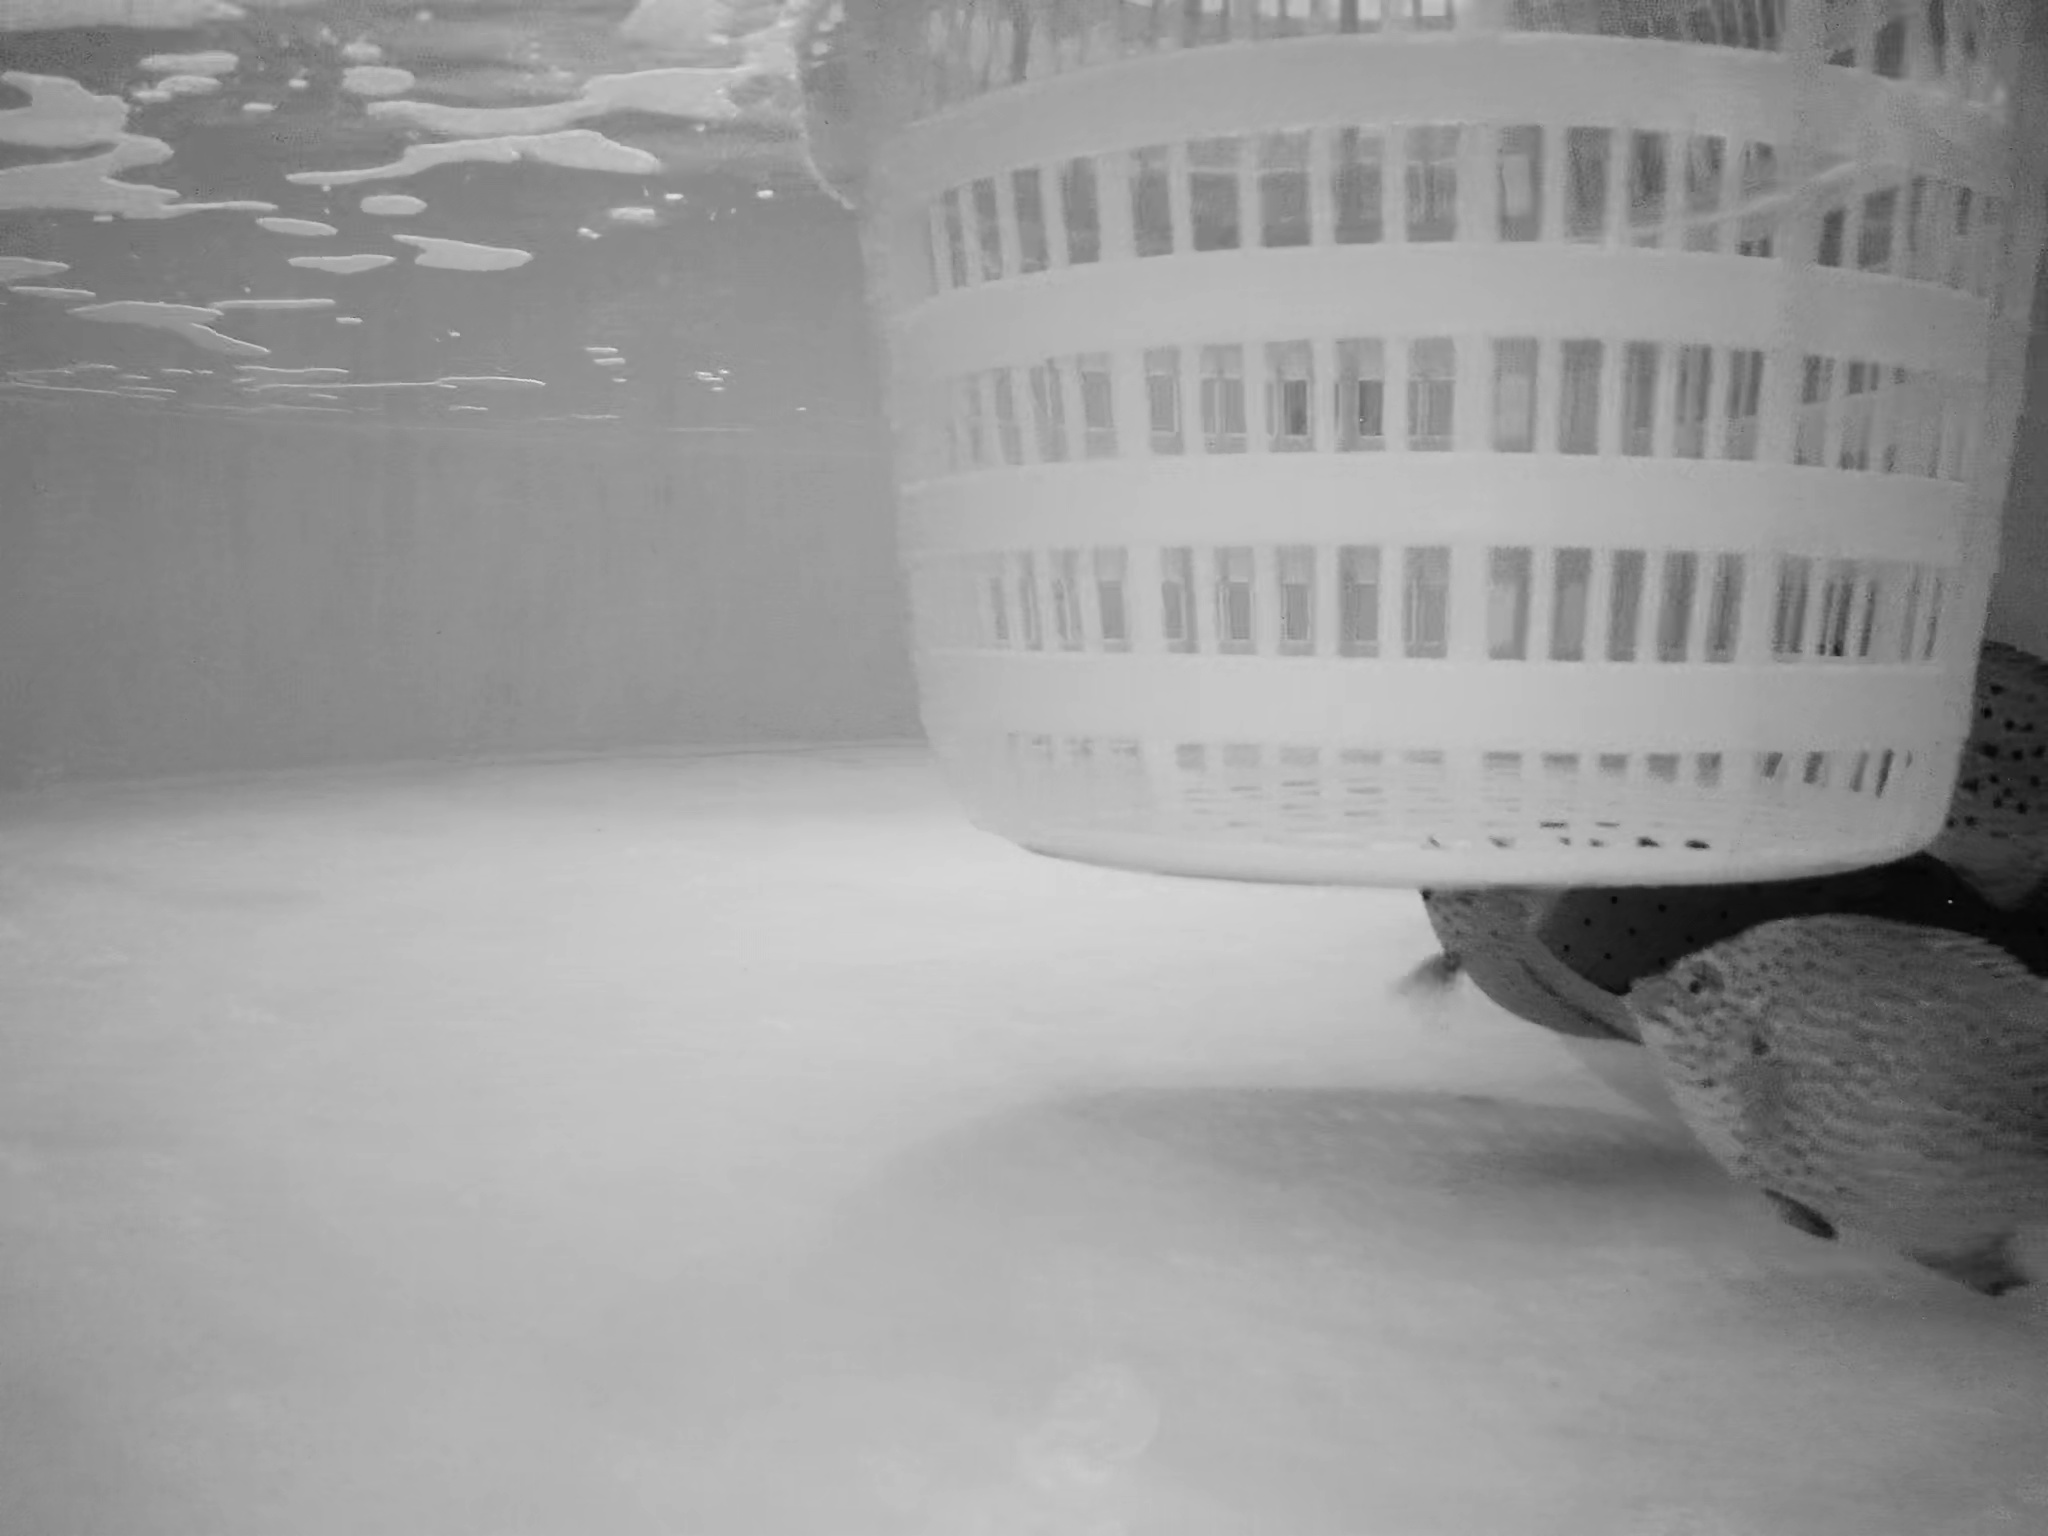fish: (1600, 907, 2048, 1294), (1406, 839, 1634, 1066), (1853, 621, 2048, 881)
